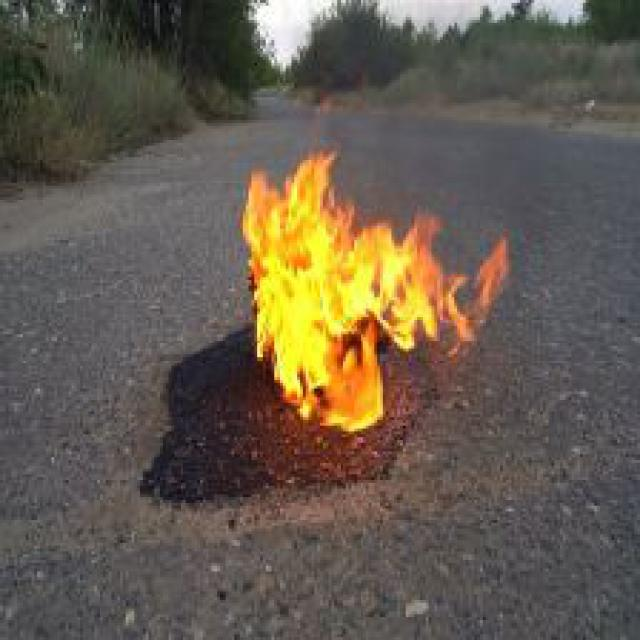fire: (228, 126, 512, 451)
